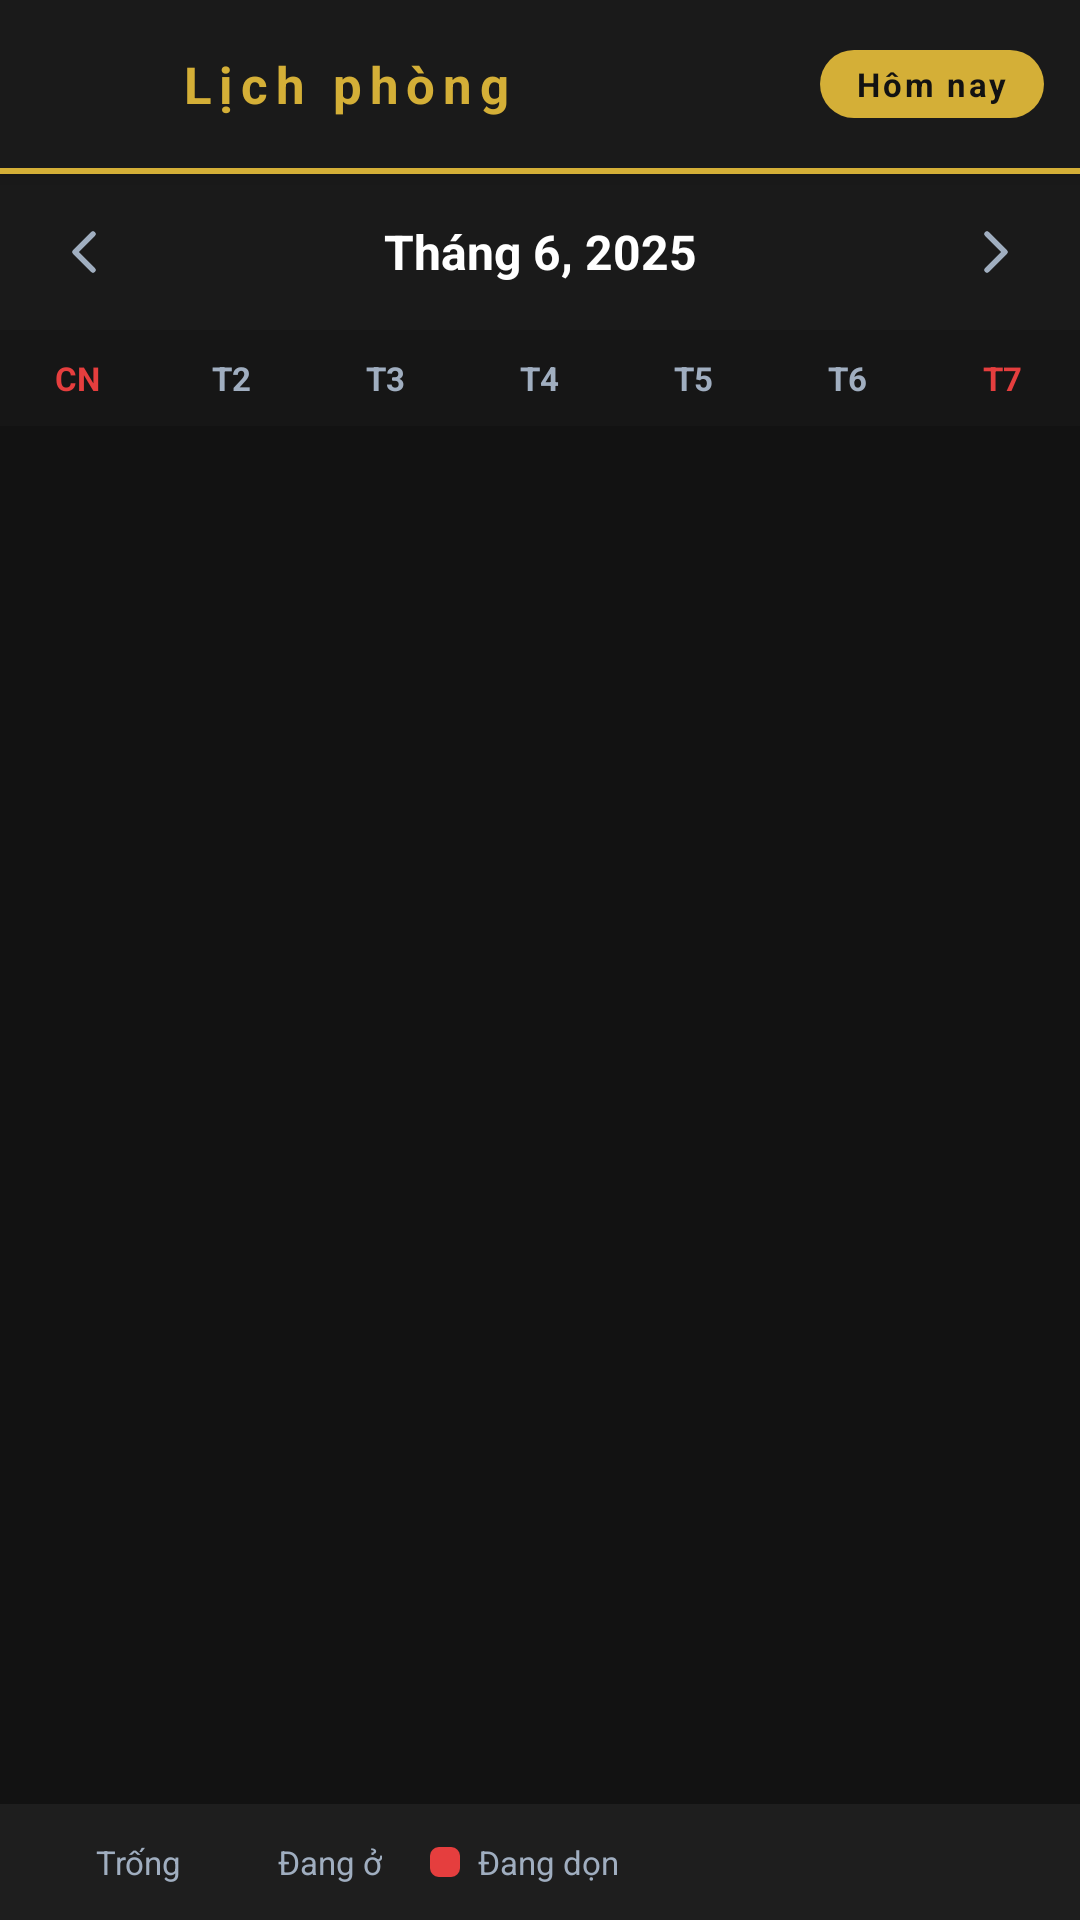

Screen size 1080w x 1920h. Icon name, then its box in pixels as (x1, y1, x2, y2):
Tháng sau: (984, 231, 1008, 273)
Tháng trước: (72, 231, 96, 273)
